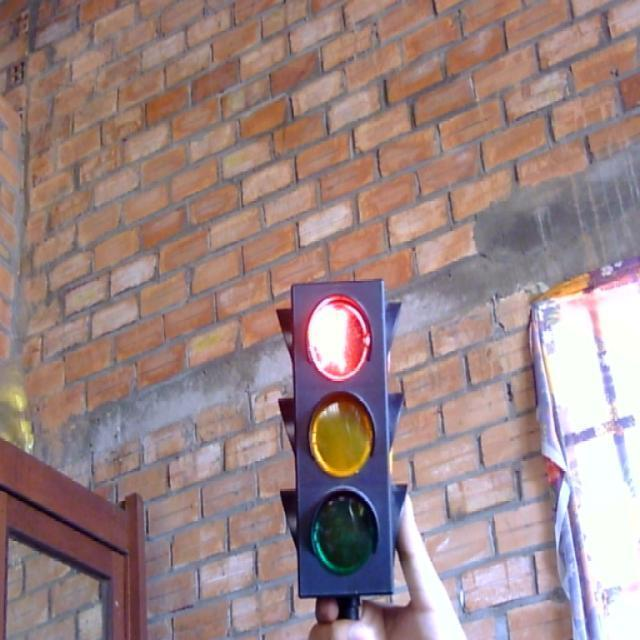red_light: (288, 279, 404, 602)
